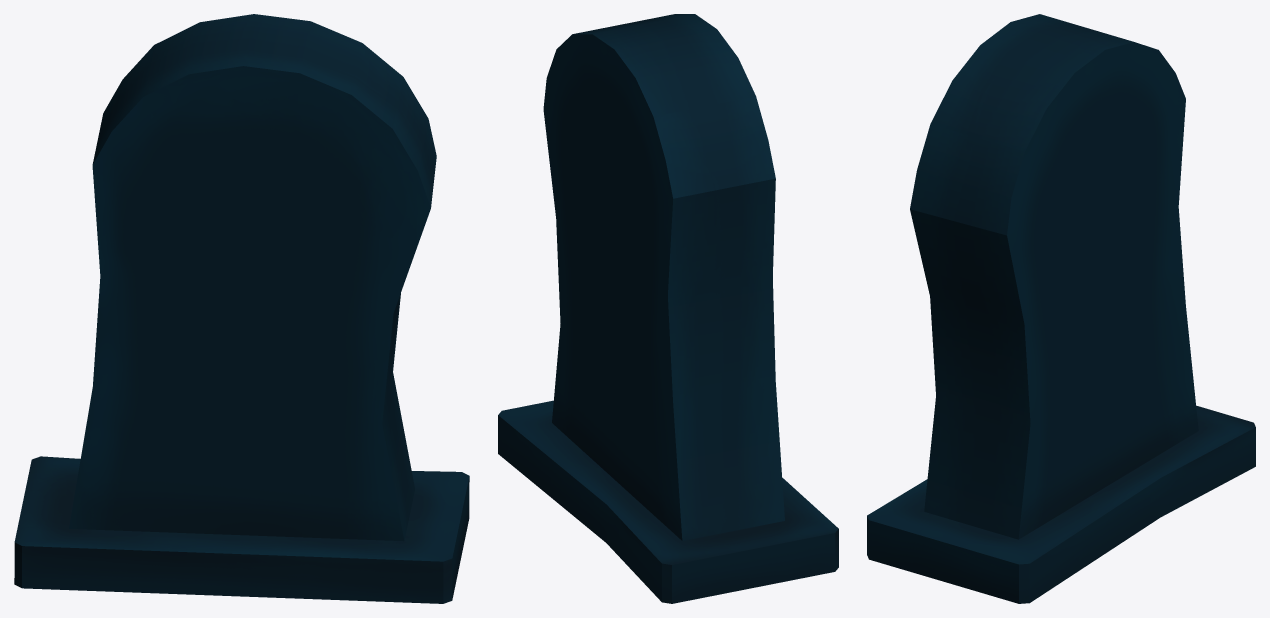
Rendered from gravestone02.FBX.
3 views of the same model, side by side, from view 1: azimuth 30°, elevation 25°; view 2: azimuth 150°, elevation 25°; view 3: azimuth 270°, elevation 25° (orthographic). The views are drawn at different scales.
Visible parts, largest first — view 1: gravestone01; view 2: gravestone01; view 3: gravestone01.
Boxes of the visible parts, x1,y1,x2,y2 form: gravestone01: [14, 14, 469, 603]; gravestone01: [498, 14, 838, 603]; gravestone01: [867, 14, 1255, 603].
Size of the model in its own units: 13.14 by 15.69 by 11.59.
